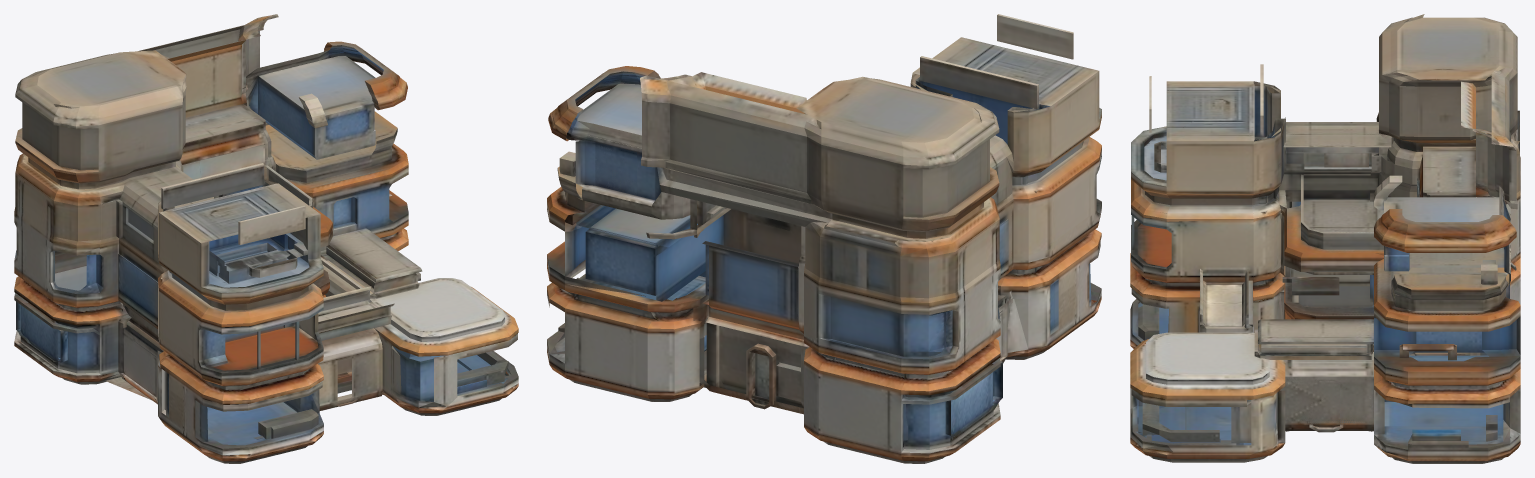
Rendered from residentials.glb.
3 views of the same model, side by side, from view 1: azimuth 30°, elevation 25°; view 2: azimuth 150°, elevation 25°; view 3: azimuth 270°, elevation 25° (orthographic). The views are drawn at different scales.
Parts seen in each view (by area): view 1: tripo_node_d002fa3c-2be3-4846-add2-f9aa0c12a5c5; view 2: tripo_node_d002fa3c-2be3-4846-add2-f9aa0c12a5c5; view 3: tripo_node_d002fa3c-2be3-4846-add2-f9aa0c12a5c5.
Boxes of the visible parts, box(x1,y1,x2,y2) form: tripo_node_d002fa3c-2be3-4846-add2-f9aa0c12a5c5: box(14, 14, 518, 463); tripo_node_d002fa3c-2be3-4846-add2-f9aa0c12a5c5: box(547, 14, 1101, 463); tripo_node_d002fa3c-2be3-4846-add2-f9aa0c12a5c5: box(1130, 14, 1520, 463).
Size of the model in its own units: 0.9961 by 0.7417 by 0.9217.
Materials: 1 (1 with a texture image).
